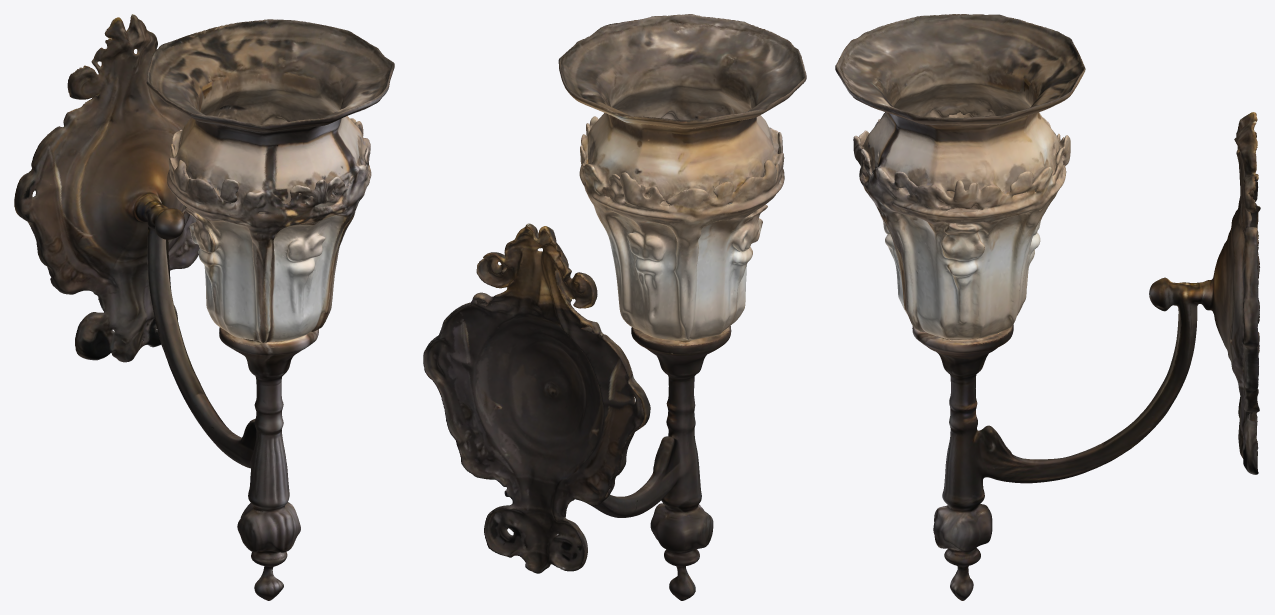
The model's file is Lampe_Murale1.glb.
3 views of the same model, side by side, from view 1: azimuth 30°, elevation 25°; view 2: azimuth 150°, elevation 25°; view 3: azimuth 270°, elevation 25° (orthographic).
Bounding box in the file's own units: 0.8745 × 2 × 1.44.
1 material, 1 textured.
